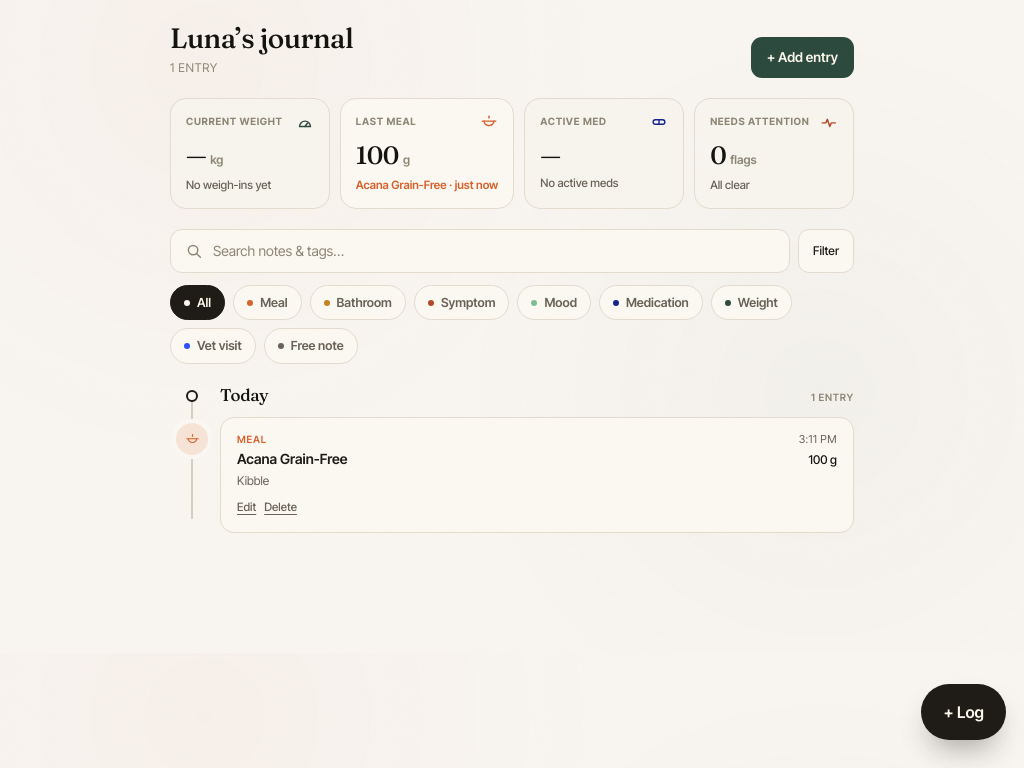
JournalTimeline feed › opens the quick-add type picker from the FAB
The image size is (1024, 768).
Click the button "+ Log": (964, 712) [922,684,1006,740]
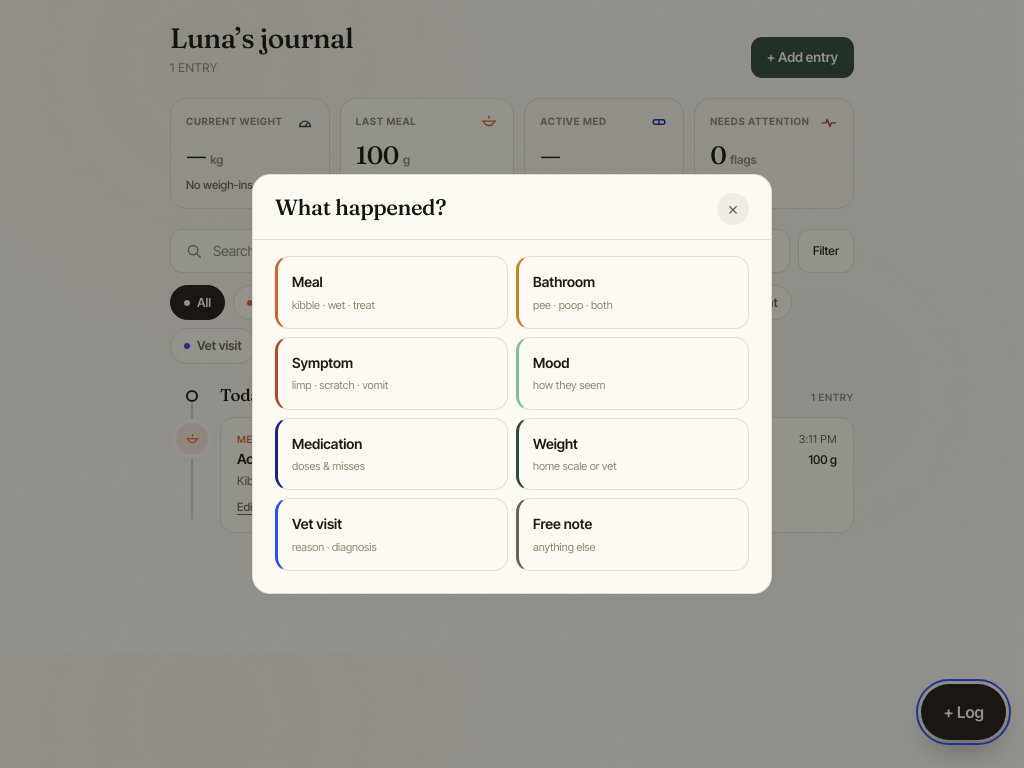
Check: the dialog is shown, box [252,174,772,594]
Check: the heading "What happened?" is shown, box [275,195,446,219]
